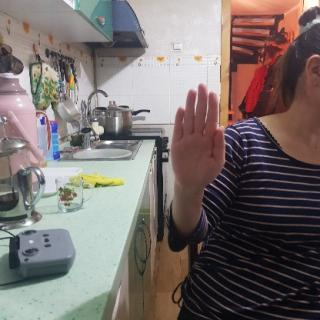SEEN: (164, 78, 226, 195)
